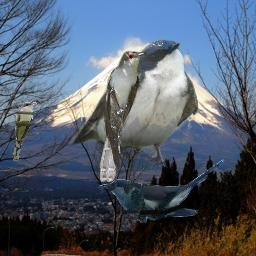Cuckoo: (98, 159, 228, 224), (98, 49, 148, 182), (13, 102, 37, 161)
Swallow: (69, 39, 199, 169)
